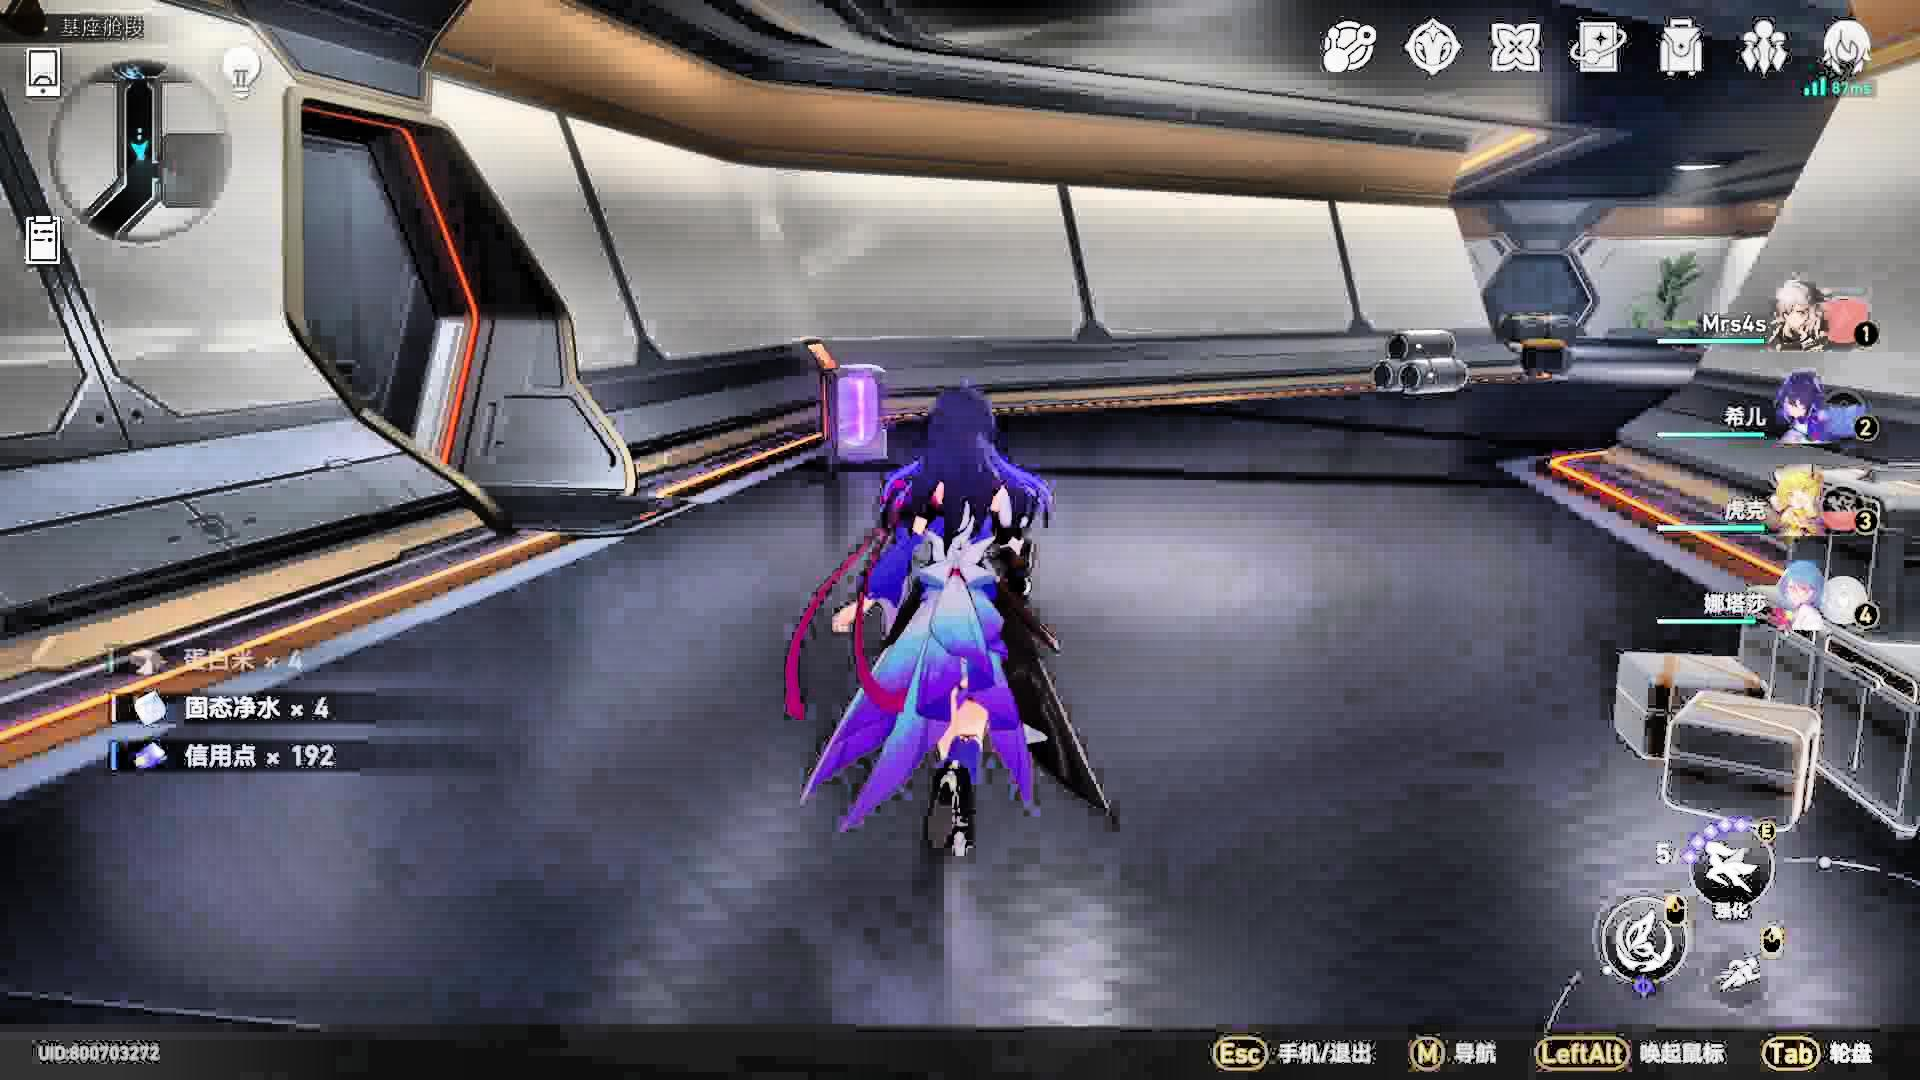Box: (785, 385, 1126, 877), (1611, 465, 1920, 840), (1371, 330, 1472, 397)
